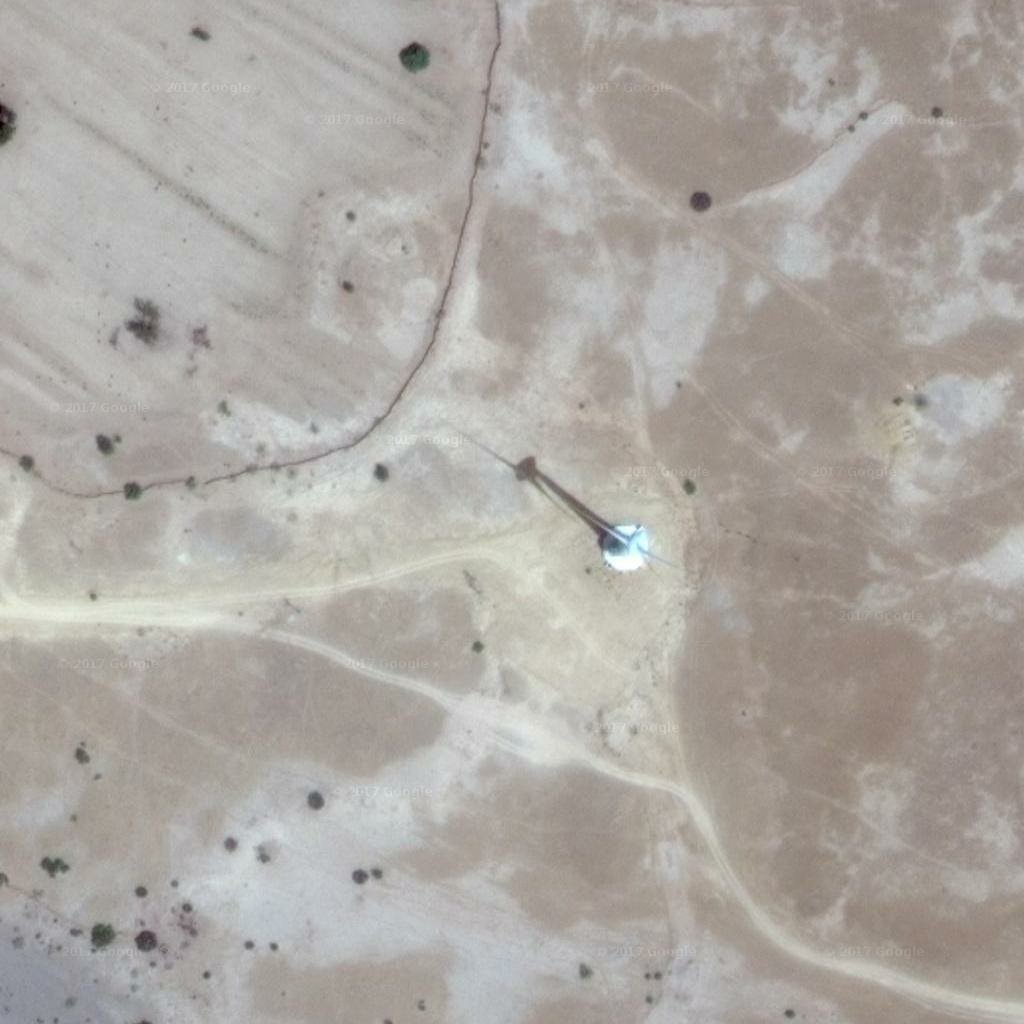Windmill: (455, 429, 623, 540)
